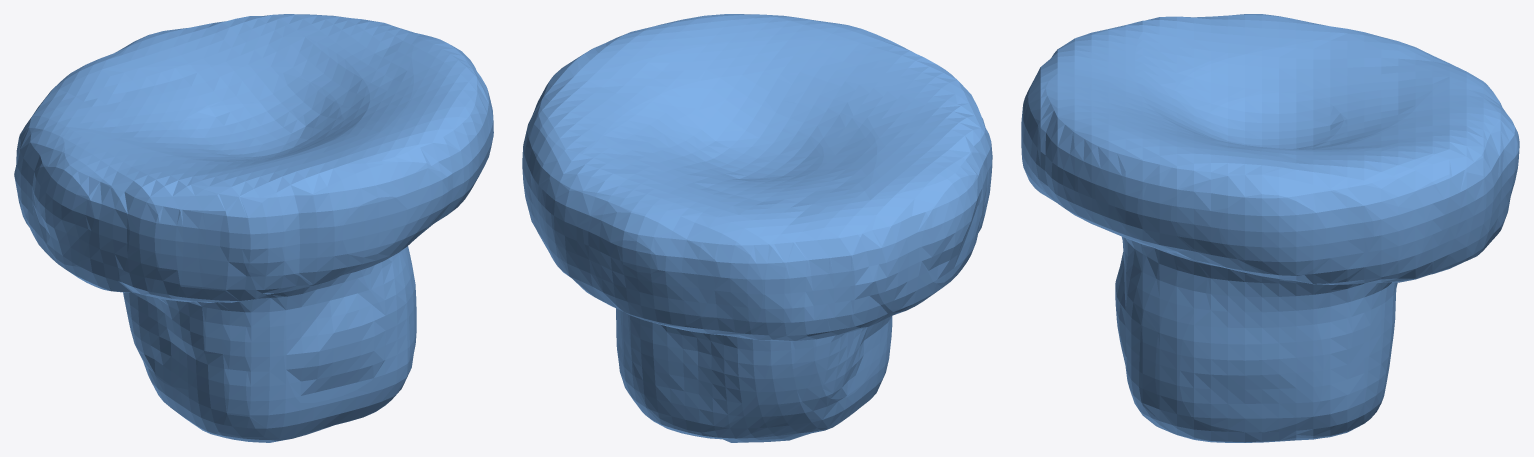
File: water_0008.glb
3 renders of one model, left to right at view 1: azimuth 30°, elevation 25°; view 2: azimuth 150°, elevation 25°; view 3: azimuth 270°, elevation 25°, orthographic. The views are drawn at different scales.
Parts seen in each view (by area): view 1: Water_0008; view 2: Water_0008; view 3: Water_0008.
Boxes of the visible parts, x1,y1,x2,y2 form: Water_0008: [14, 14, 493, 442]; Water_0008: [522, 14, 992, 442]; Water_0008: [1021, 14, 1519, 442].
Size of the model in its own units: 1.71 by 1.28 by 1.71.
